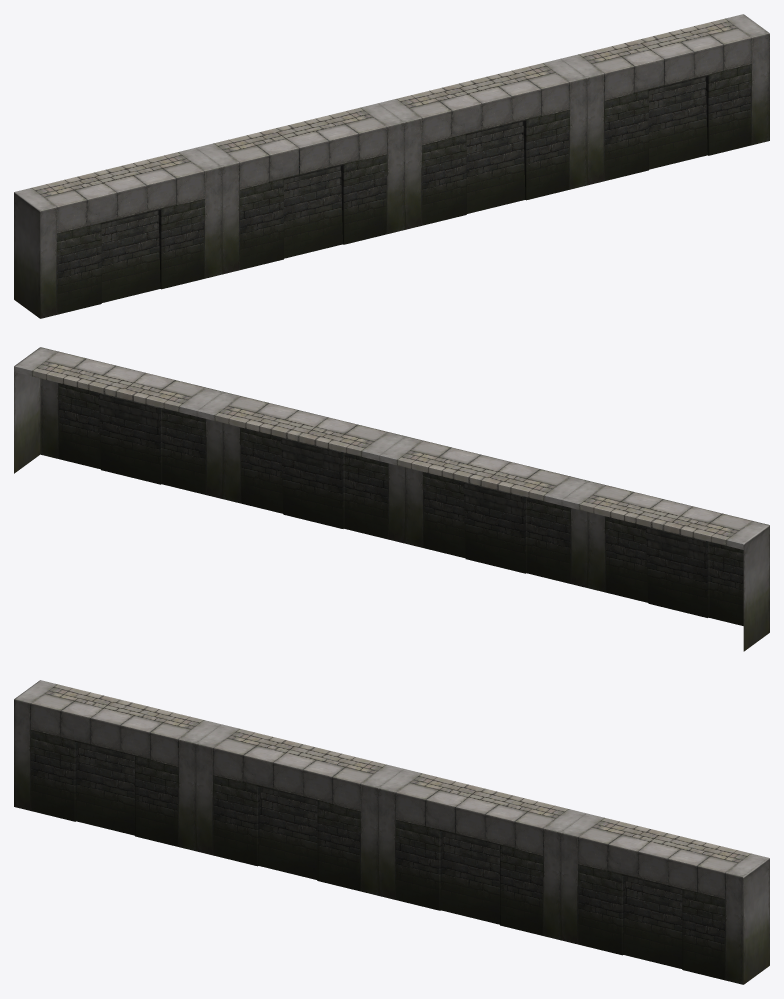
File: quaypart_long.fbx
The picture shows the model from 3 angles, top to bottom: view 1: azimuth 30°, elevation 25°; view 2: azimuth 150°, elevation 25°; view 3: azimuth 330°, elevation 25°; orthographic projection.
Visible parts, largest first — view 1: GEOM0_LOD0; view 2: GEOM0_LOD0; view 3: GEOM0_LOD0.
Part boxes in pixels (left/top/right/bottom): GEOM0_LOD0: left=14, top=14, right=769, bottom=318; GEOM0_LOD0: left=14, top=347, right=769, bottom=651; GEOM0_LOD0: left=14, top=680, right=769, bottom=984.
Size of what is drawn, in the model's own units: 3200 by 451 by 200.
